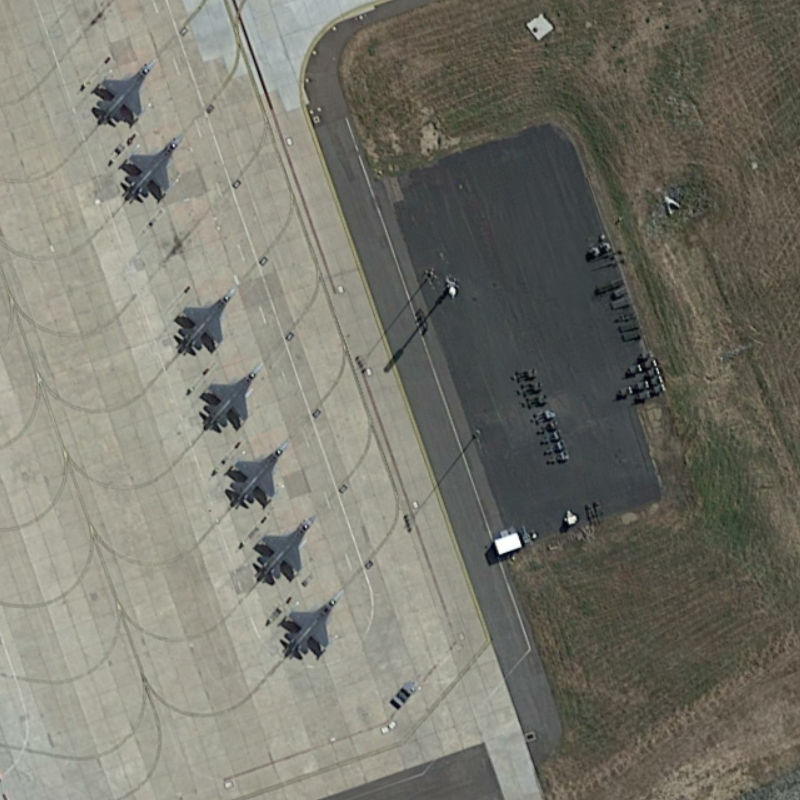A5: (248, 511, 327, 590), (271, 584, 348, 664), (218, 436, 299, 512), (192, 358, 271, 435), (110, 130, 191, 205), (171, 280, 248, 358), (88, 55, 163, 128)
